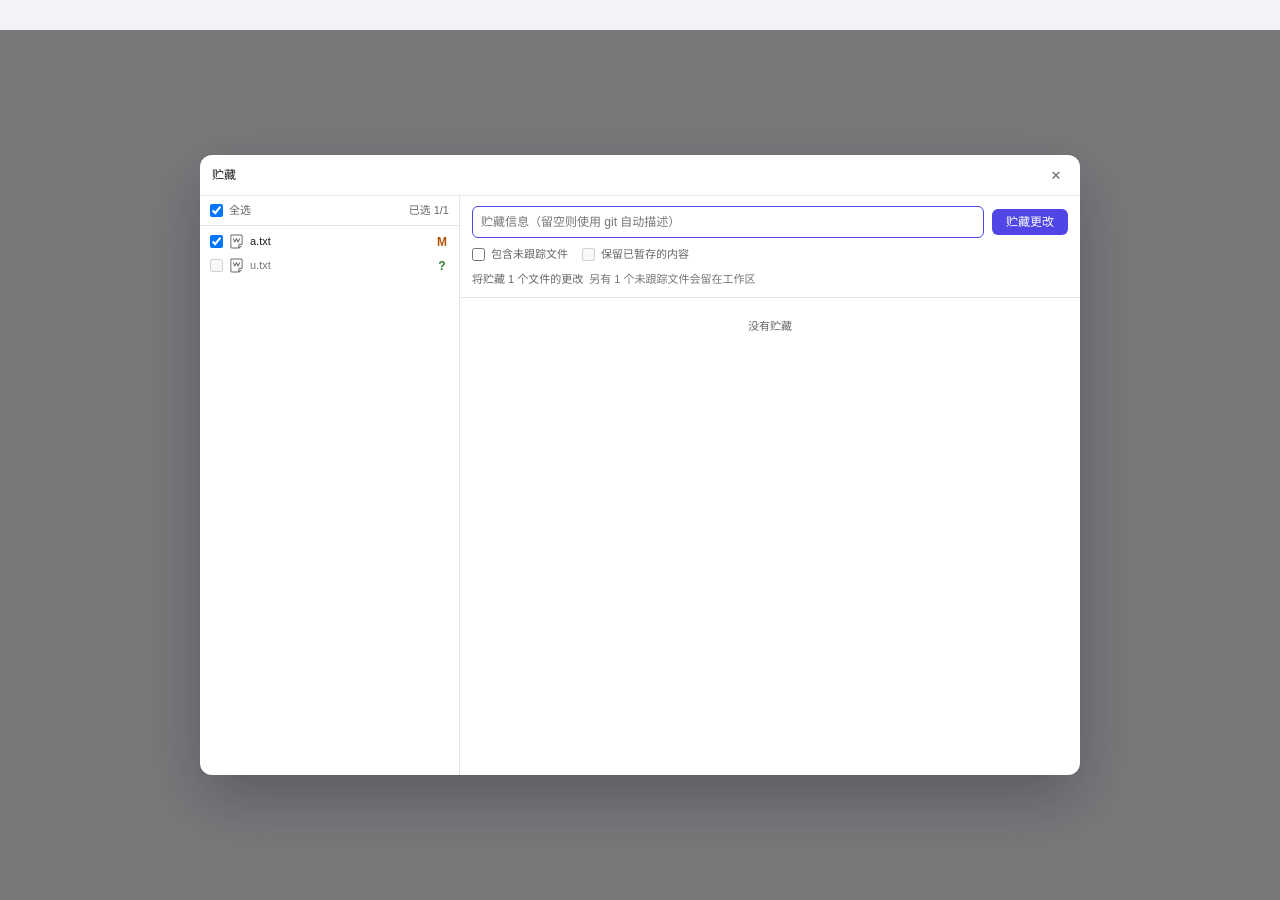
Test: 勾选「包含未跟踪文件」后把它算进数量
The image size is (1280, 900).
Click the checkbox labelled "包含未跟踪文件" at {"x": 478, "y": 254}, box [472,248,485,261]
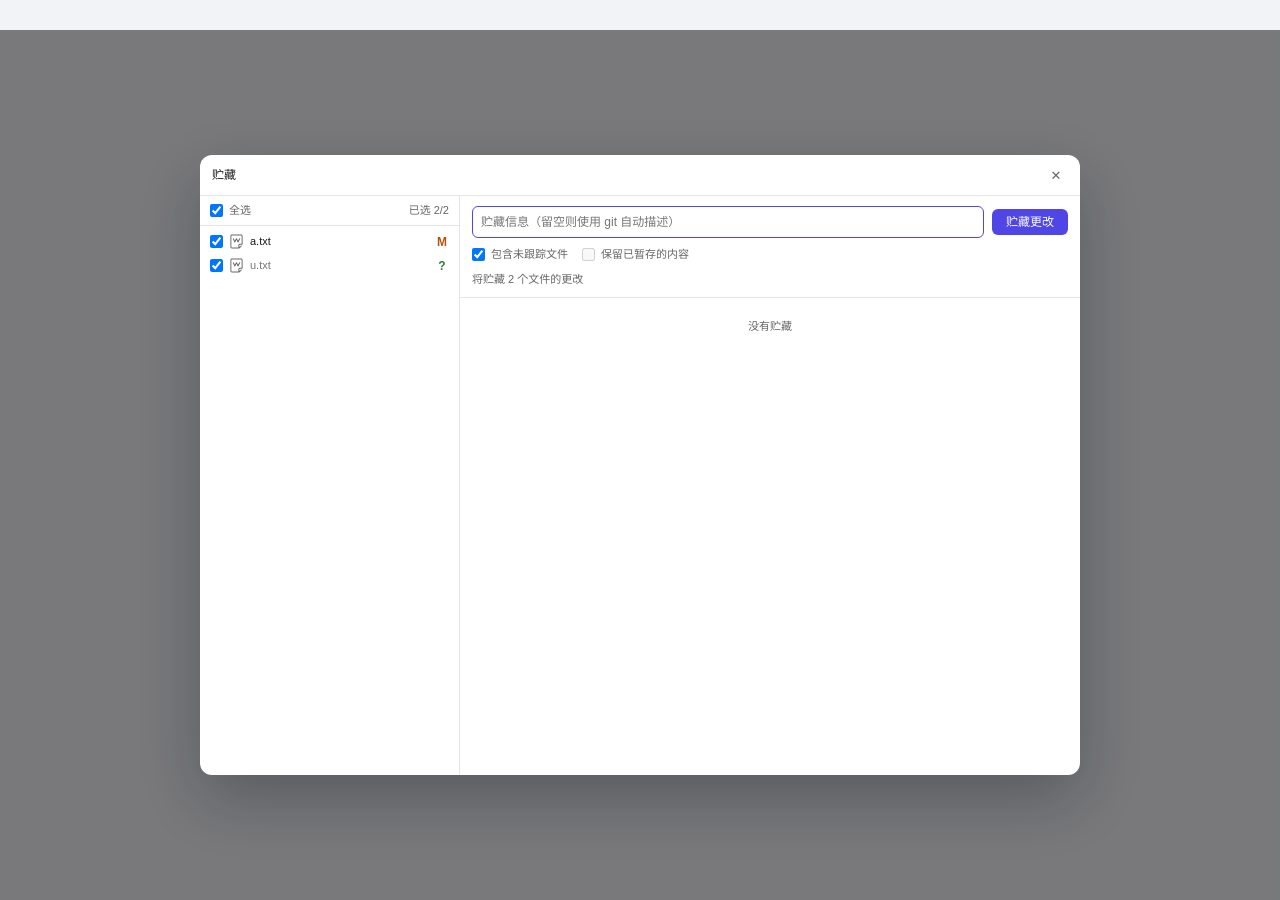
expect the text with class "git-stash-hint" reads "将贮藏 2 个文件的更改": met, box [472,272,583,284]
expect the text with class "git-stash-hint" no longer shows "会留在工作区": met
